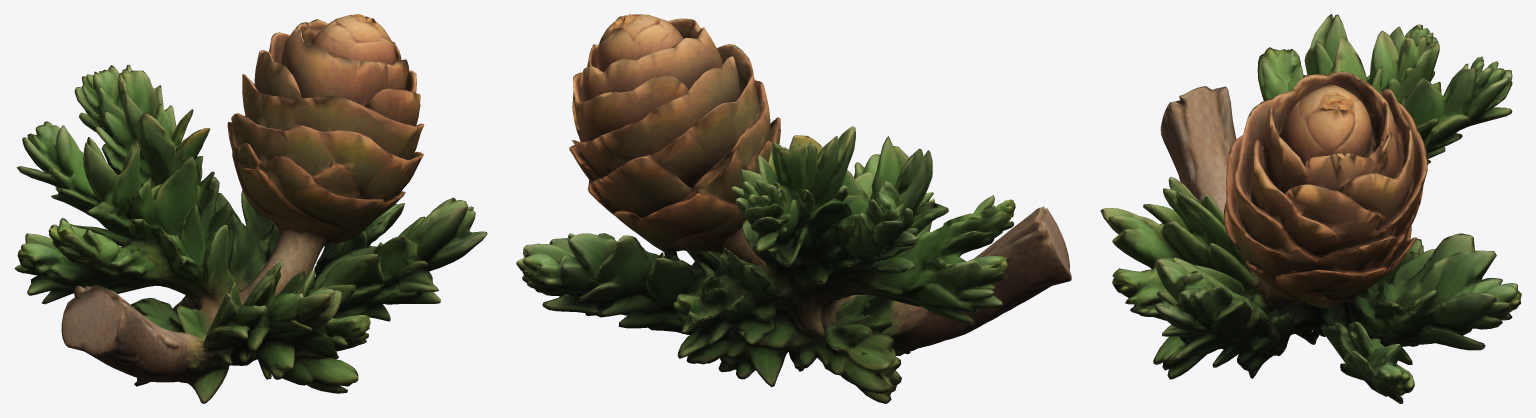
The picture shows the model from 3 angles, left to right: view 1: azimuth 30°, elevation 25°; view 2: azimuth 150°, elevation 25°; view 3: azimuth 270°, elevation 25°; orthographic projection. The views are drawn at different scales.
Parts seen in each view (by area): view 1: world; view 2: world; view 3: world.
Boxes of the visible parts, bbox=[...] form: world: bbox=[14, 14, 487, 403]; world: bbox=[516, 14, 1071, 403]; world: bbox=[1100, 14, 1521, 403].
Size of the model in its own units: 0.1651 by 0.1163 by 0.1309.
Materials: 1 (1 with a texture image).
